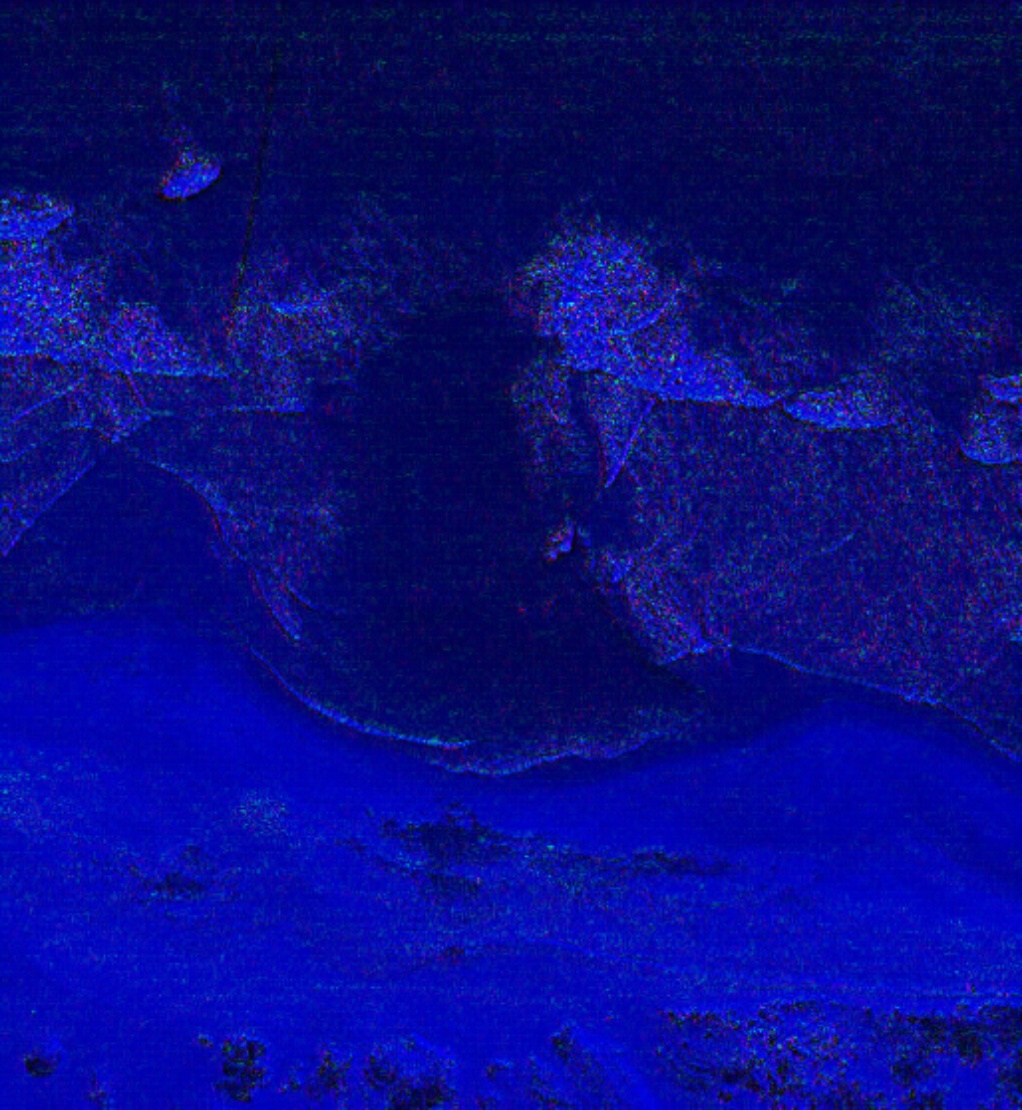rip_current: (226, 185, 731, 686)
